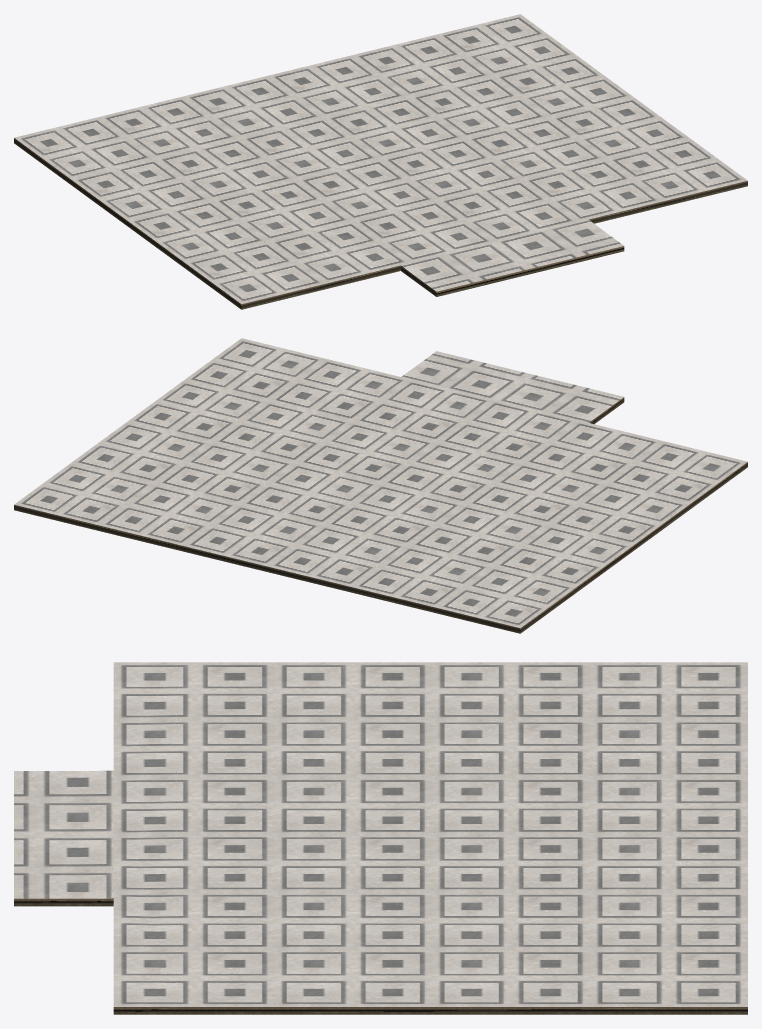
Rendered from Launch_Building_Exterior_Roof.glb.
The picture shows the model from 3 angles, top to bottom: view 1: azimuth 30°, elevation 25°; view 2: azimuth 150°, elevation 25°; view 3: azimuth 270°, elevation 25°; orthographic projection. The views are drawn at different scales.
Parts seen in each view (by area): view 1: Launch_Building_Exterior_Roof; view 2: Launch_Building_Exterior_Roof; view 3: Launch_Building_Exterior_Roof.
Part boxes in pixels (x1,y1,x2,y2): Launch_Building_Exterior_Roof: (14, 14, 747, 309); Launch_Building_Exterior_Roof: (14, 338, 747, 633); Launch_Building_Exterior_Roof: (14, 662, 747, 1014).
Bounding box in the file's own units: 37.05 × 0.3884 × 33.35.
Materials: 2 (2 with a texture image).
